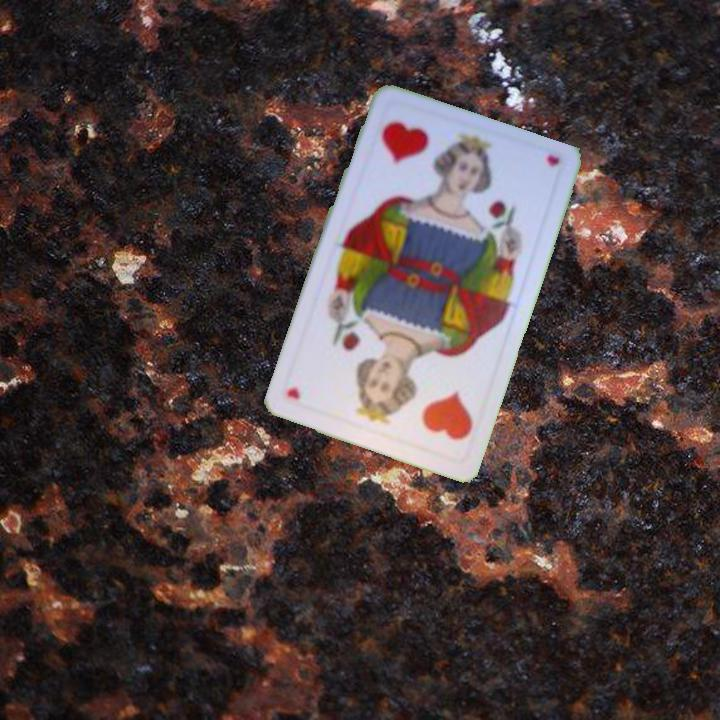h_q.png: (357, 99, 477, 211), (370, 353, 490, 465)
